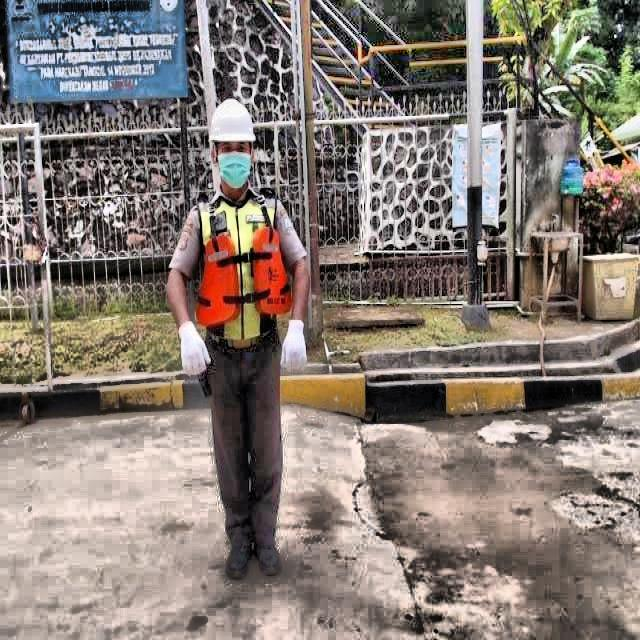safety_helmet: (204, 97, 262, 142)
safety_jacket: (195, 187, 293, 345)
